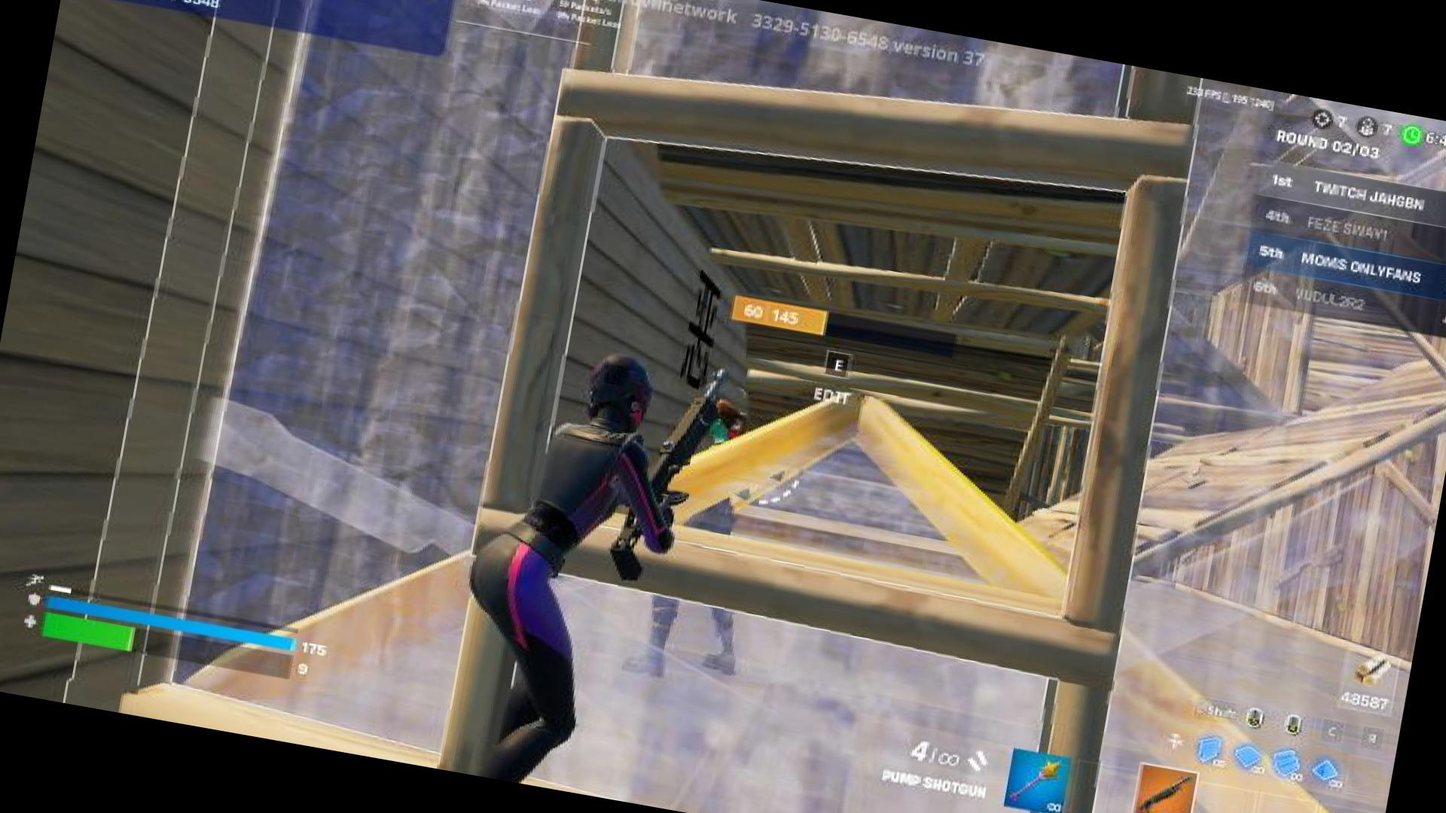player: (624, 383, 795, 699)
